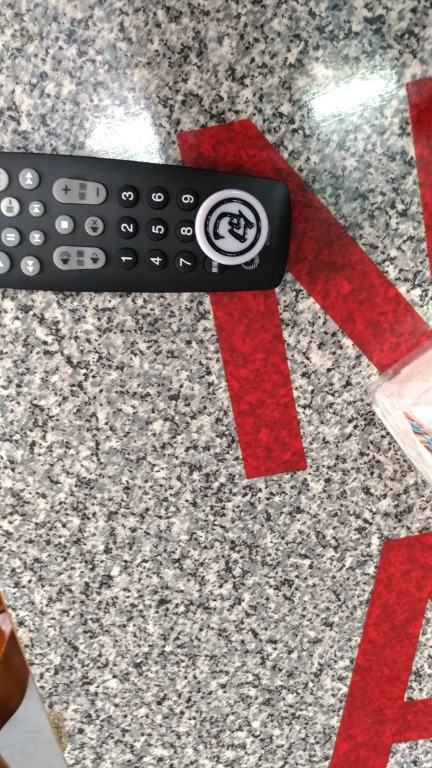b-cannon: (187, 177, 283, 280)
